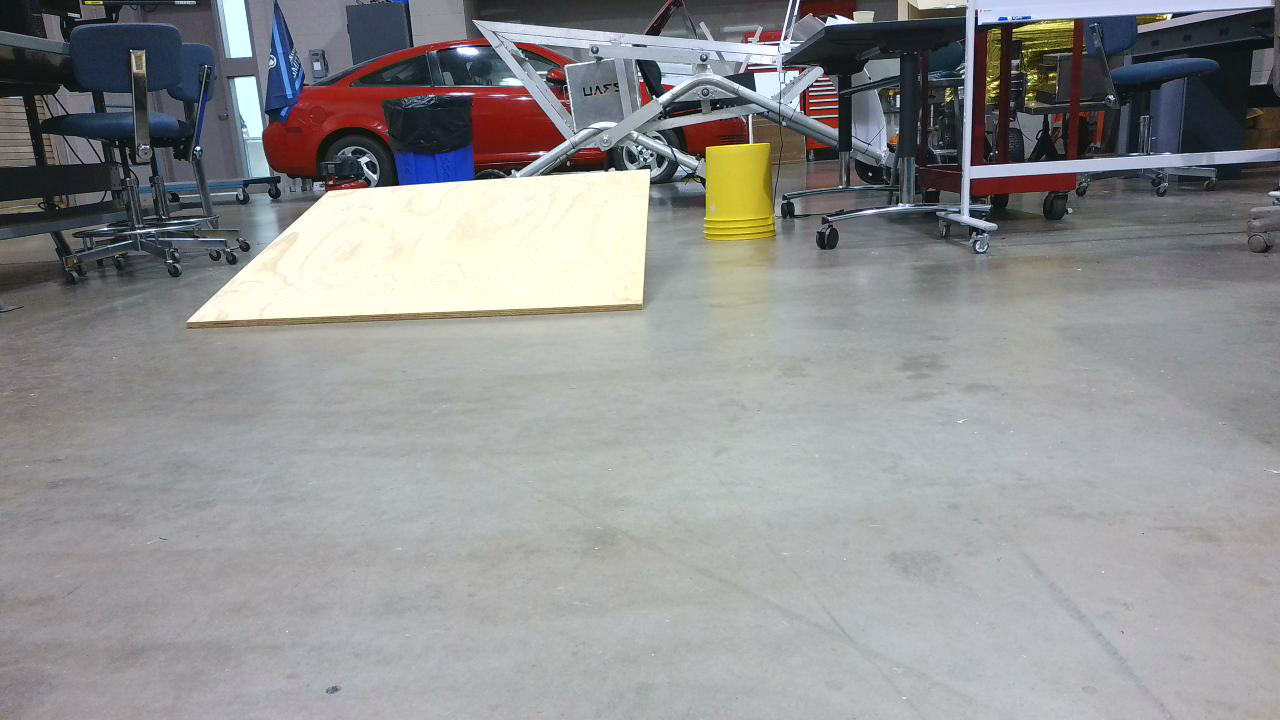concrete_block: (184, 167, 655, 332)
yellow_bucket: (708, 146, 781, 247)
